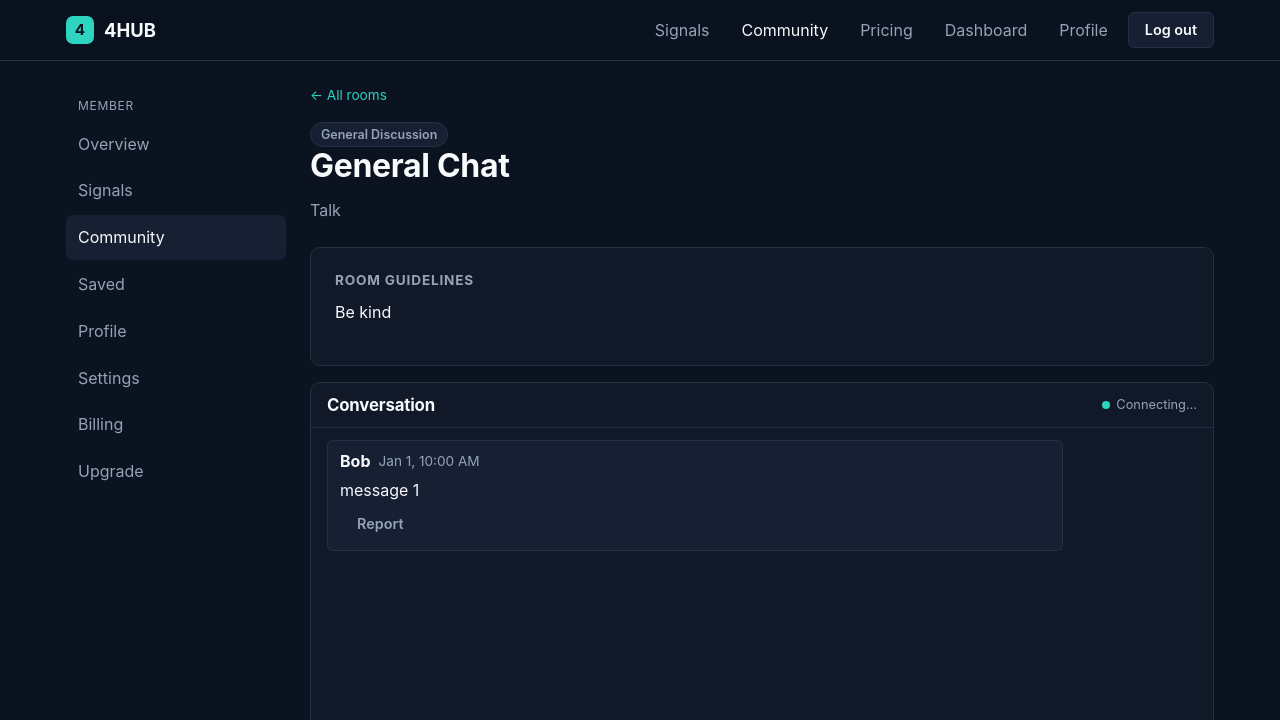
reporting a message › cancelling closes the form without sending anything
What coordinates should you click on to do the following:
click the button with aria-label "Report message from Bob"
I would click on:
 (380, 524)
Its box is left=340, top=506, right=420, bottom=542.
(page scrolled)
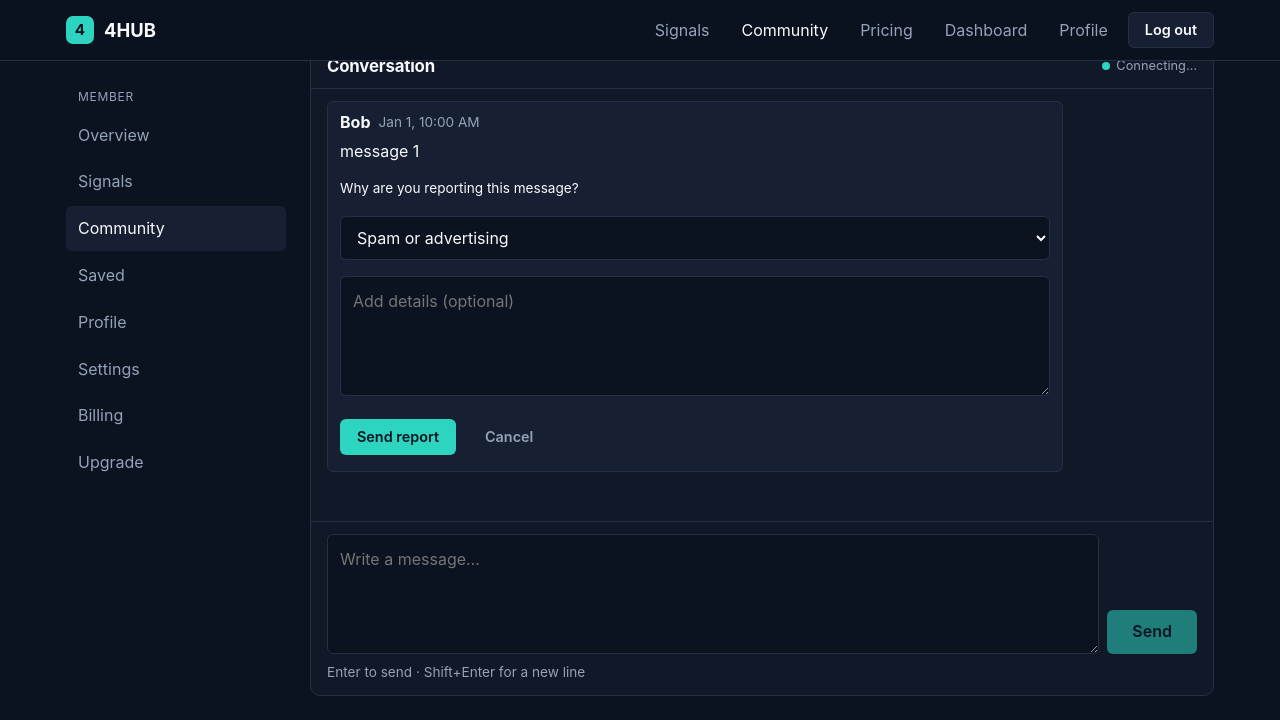
What coordinates should you click on to do the following:
click the button "Cancel"
I would click on:
 (509, 437)
Its box is left=468, top=419, right=550, bottom=455.
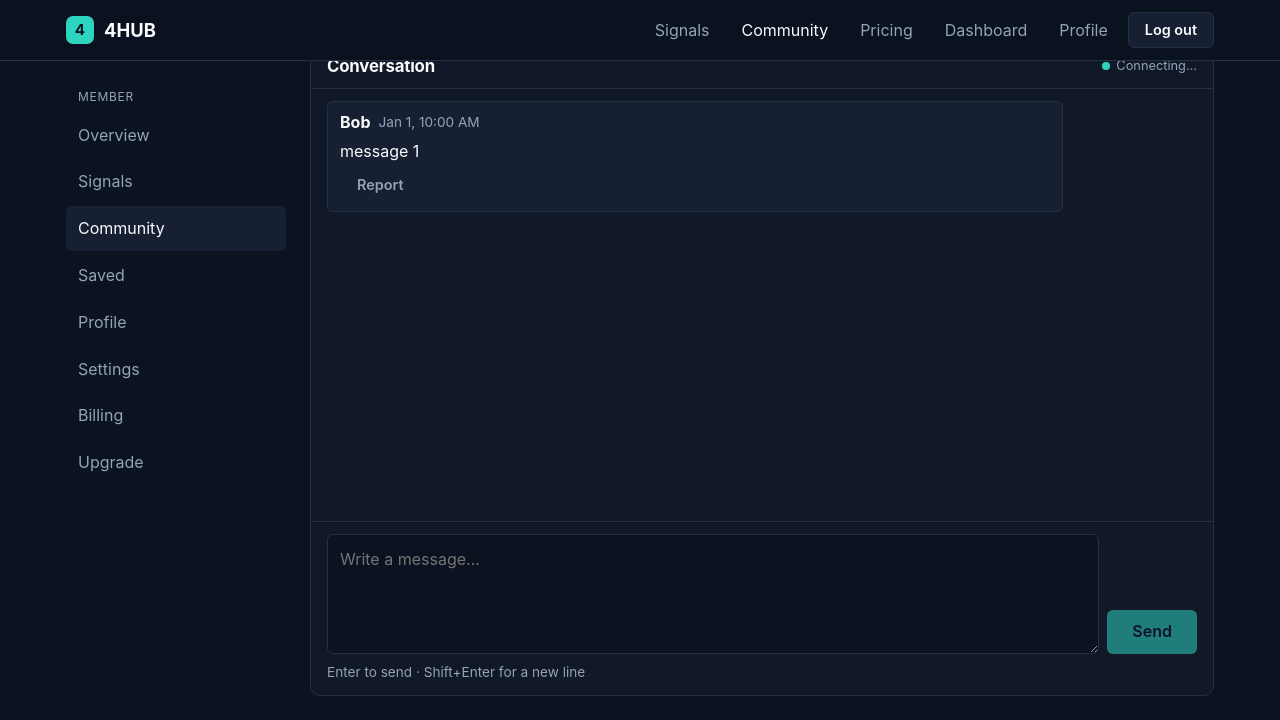
Expected: the button "Send report" is gone
